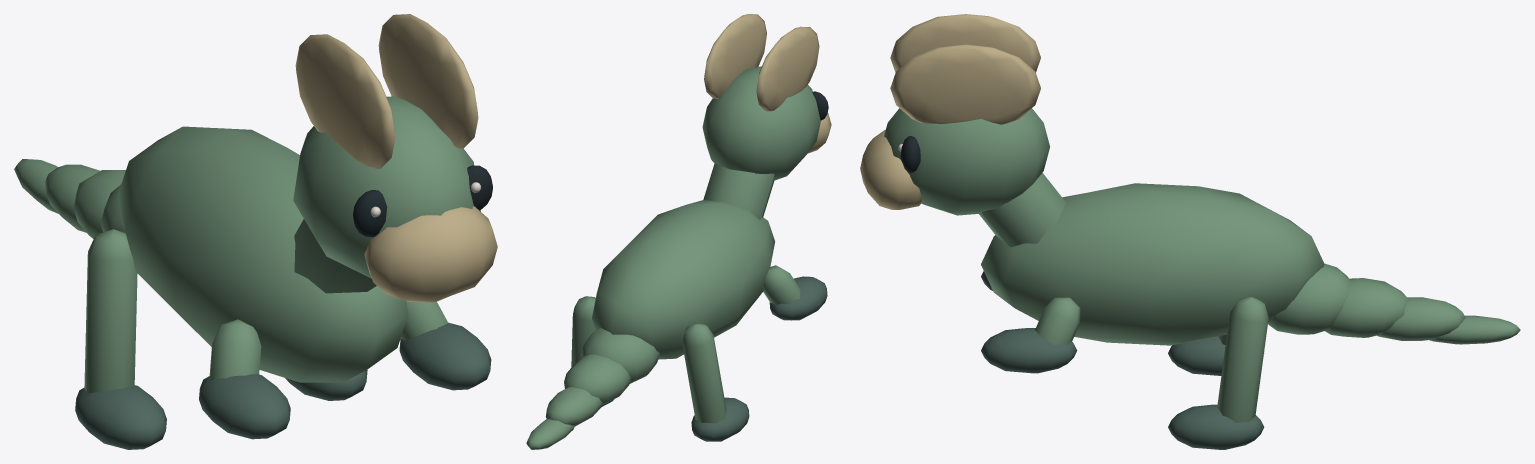
Rendered from org_dilophosaurus.glb.
3 renders of one model, left to right at view 1: azimuth 30°, elevation 25°; view 2: azimuth 150°, elevation 25°; view 3: azimuth 270°, elevation 25°, orthographic. The views are drawn at different scales.
Parts seen in each view (by area): view 1: Head, Body, Leg_BR, Arm_R, Arm_L, Tail, Eye_R, Leg_BL, Eye_L; view 2: Body, Head, Tail, Leg_BR, Arm_R, Leg_BL; view 3: Body, Head, Tail, Leg_BL, Arm_L, Leg_BR.
Boxes of the visible parts, x1,y1,x2,y2 form: Head: (293, 14, 497, 302); Body: (118, 126, 408, 382); Leg_BR: (75, 229, 166, 449); Arm_R: (199, 319, 290, 439); Arm_L: (399, 301, 491, 390); Tail: (14, 159, 125, 238); Eye_R: (353, 190, 387, 237); Leg_BL: (285, 370, 367, 400); Eye_L: (467, 165, 492, 210); Body: (592, 200, 775, 359); Head: (702, 14, 831, 219); Tail: (526, 328, 659, 449); Leg_BR: (682, 323, 749, 441); Arm_R: (763, 265, 827, 320); Leg_BL: (571, 296, 614, 406); Body: (981, 183, 1324, 345); Head: (860, 14, 1066, 247); Tail: (1268, 263, 1520, 344); Leg_BL: (1168, 297, 1268, 449); Arm_L: (981, 297, 1080, 373); Leg_BR: (1168, 334, 1264, 375).
Size of the model in its own units: 0.7856 by 1.4 by 2.21.
